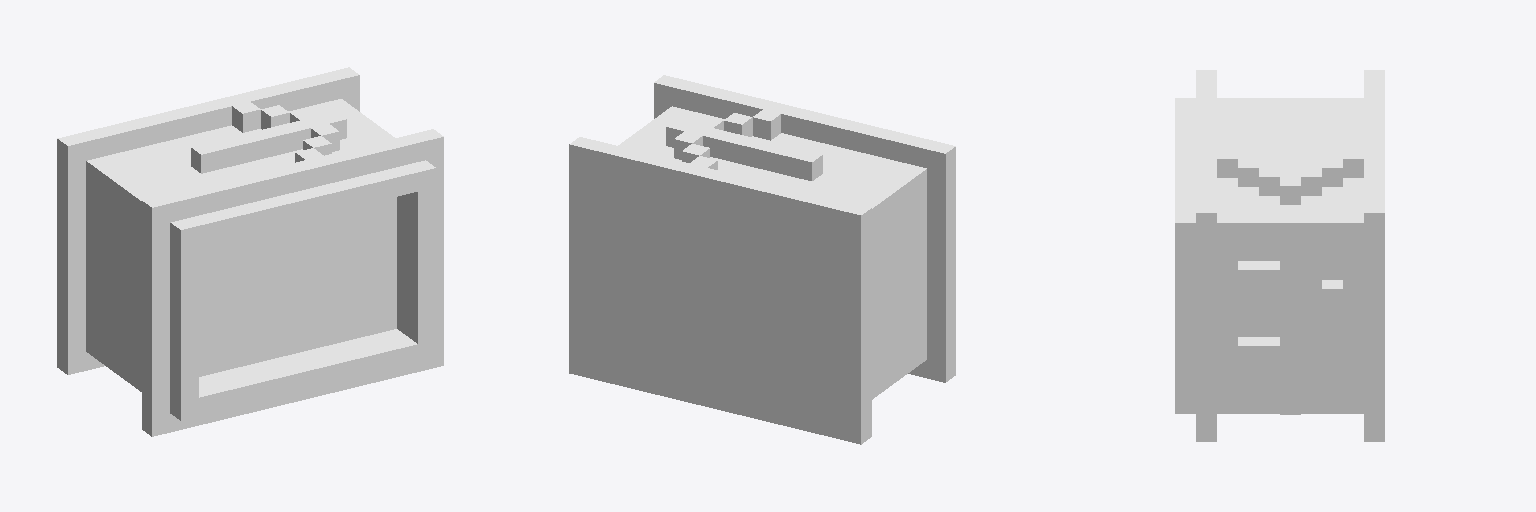
The model's file is car_t.obj.
3 views of the same model, side by side, from view 1: azimuth 30°, elevation 25°; view 2: azimuth 150°, elevation 25°; view 3: azimuth 270°, elevation 25° (orthographic).
Parts seen in each view (by area): view 1: car_t; view 2: car_t; view 3: car_t.
Part boxes in pixels (x1,y1,x2,y2): car_t: (57, 67, 443, 436); car_t: (569, 75, 955, 444); car_t: (1175, 70, 1384, 441).
Bounding box in the file's own units: 16 × 12 × 10.